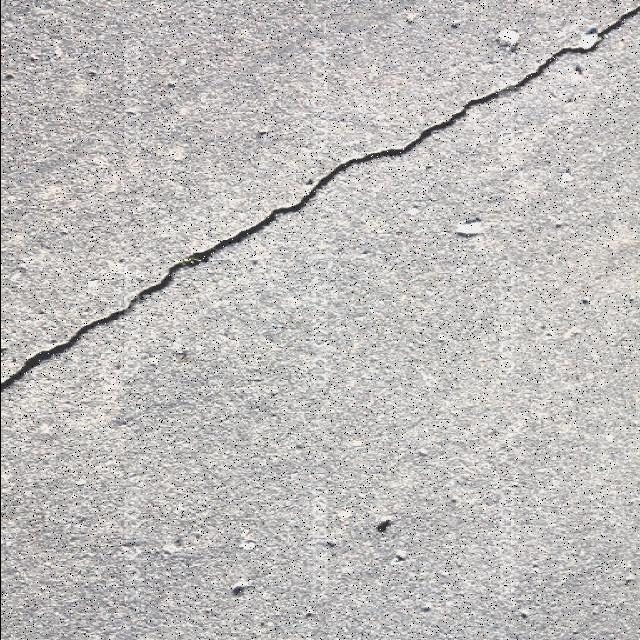Crack: (1, 3, 638, 393)
